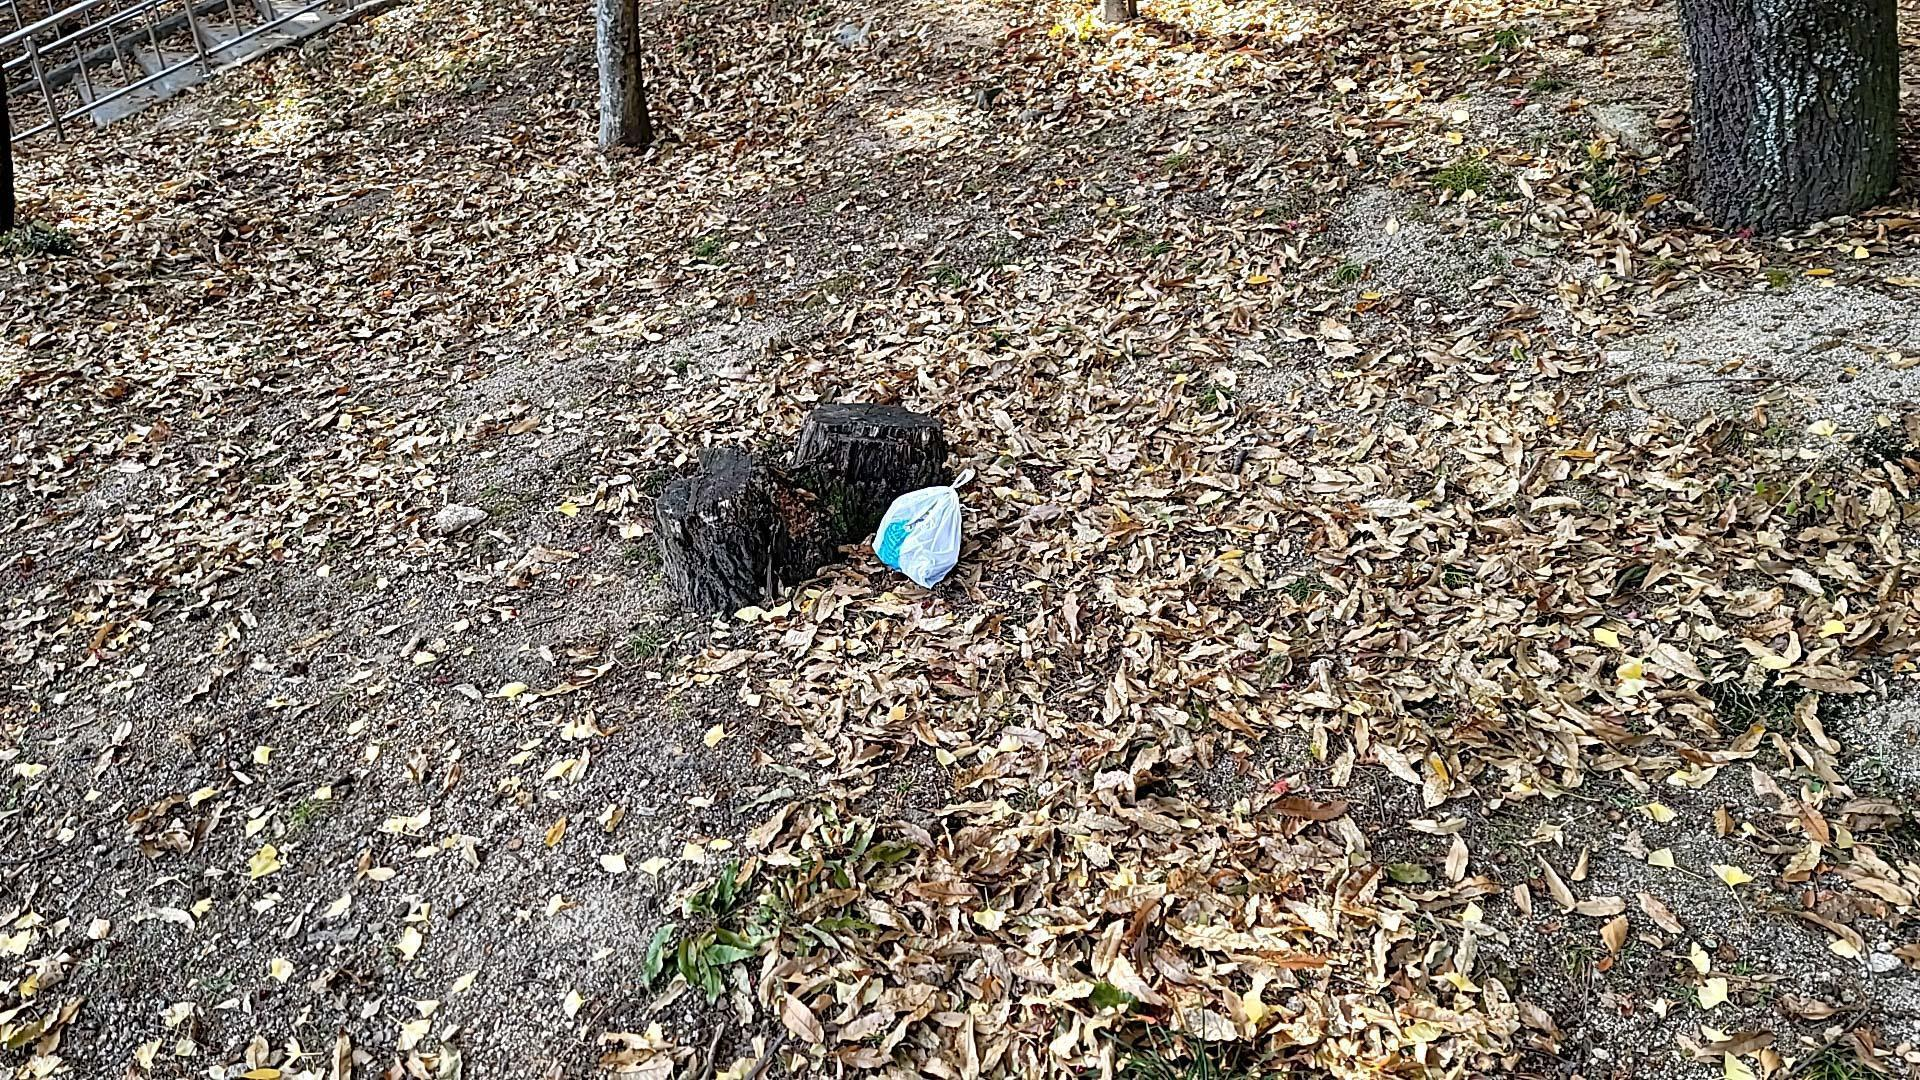white_bag: (865, 463, 978, 591)
